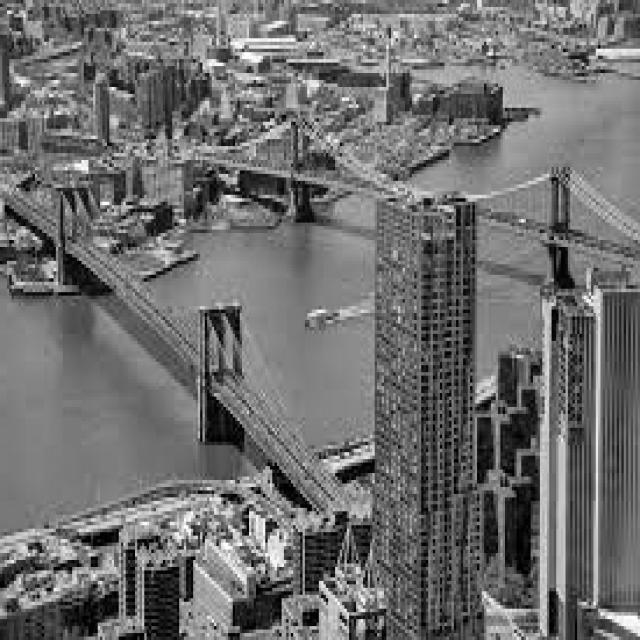Bridges: (0, 87, 638, 480)
